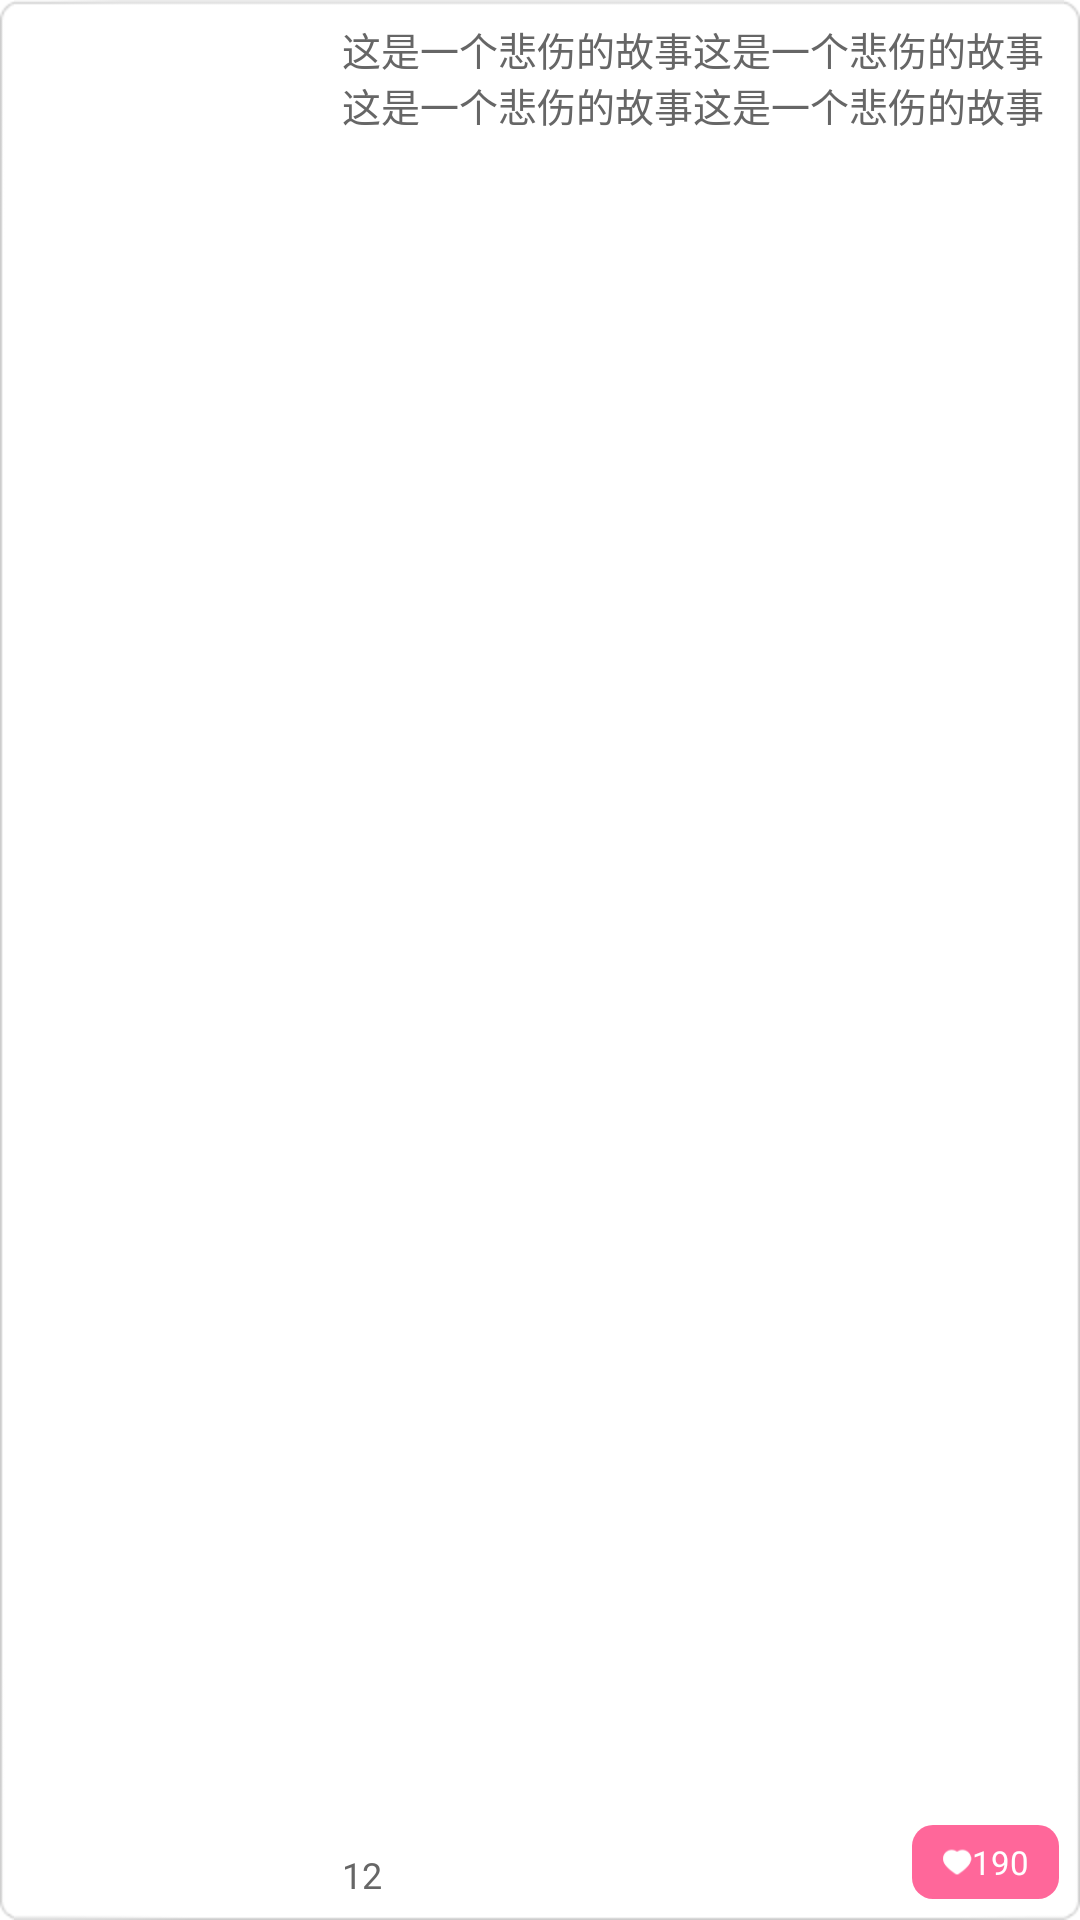

Screen size 1080 x 1920. Icon name, then its center in pixels as (x=x, y=y):
video like heart: (x=957, y=1862)
